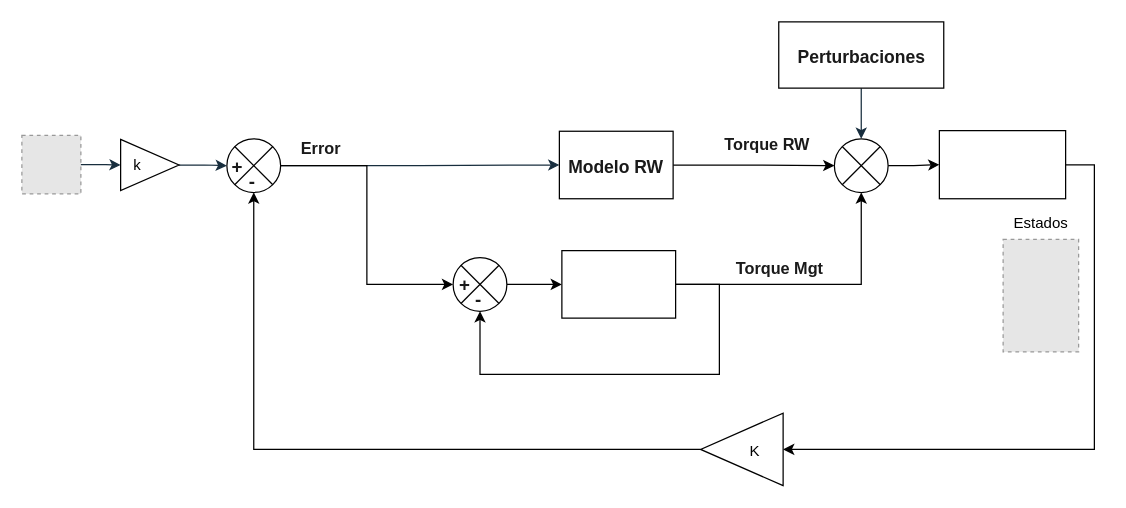
Image size: 1126x508. Some labels were removed from this diagram. Grey dashed boxes stand in for pictures. The shapes that lost their labels are listed below. From the top down, each one's centre as x and y in pixels, then its label:
At (x=1002, y=164): "Dinámica de EyasSat".
At (x=618, y=283): "Controlador en cascasda".
